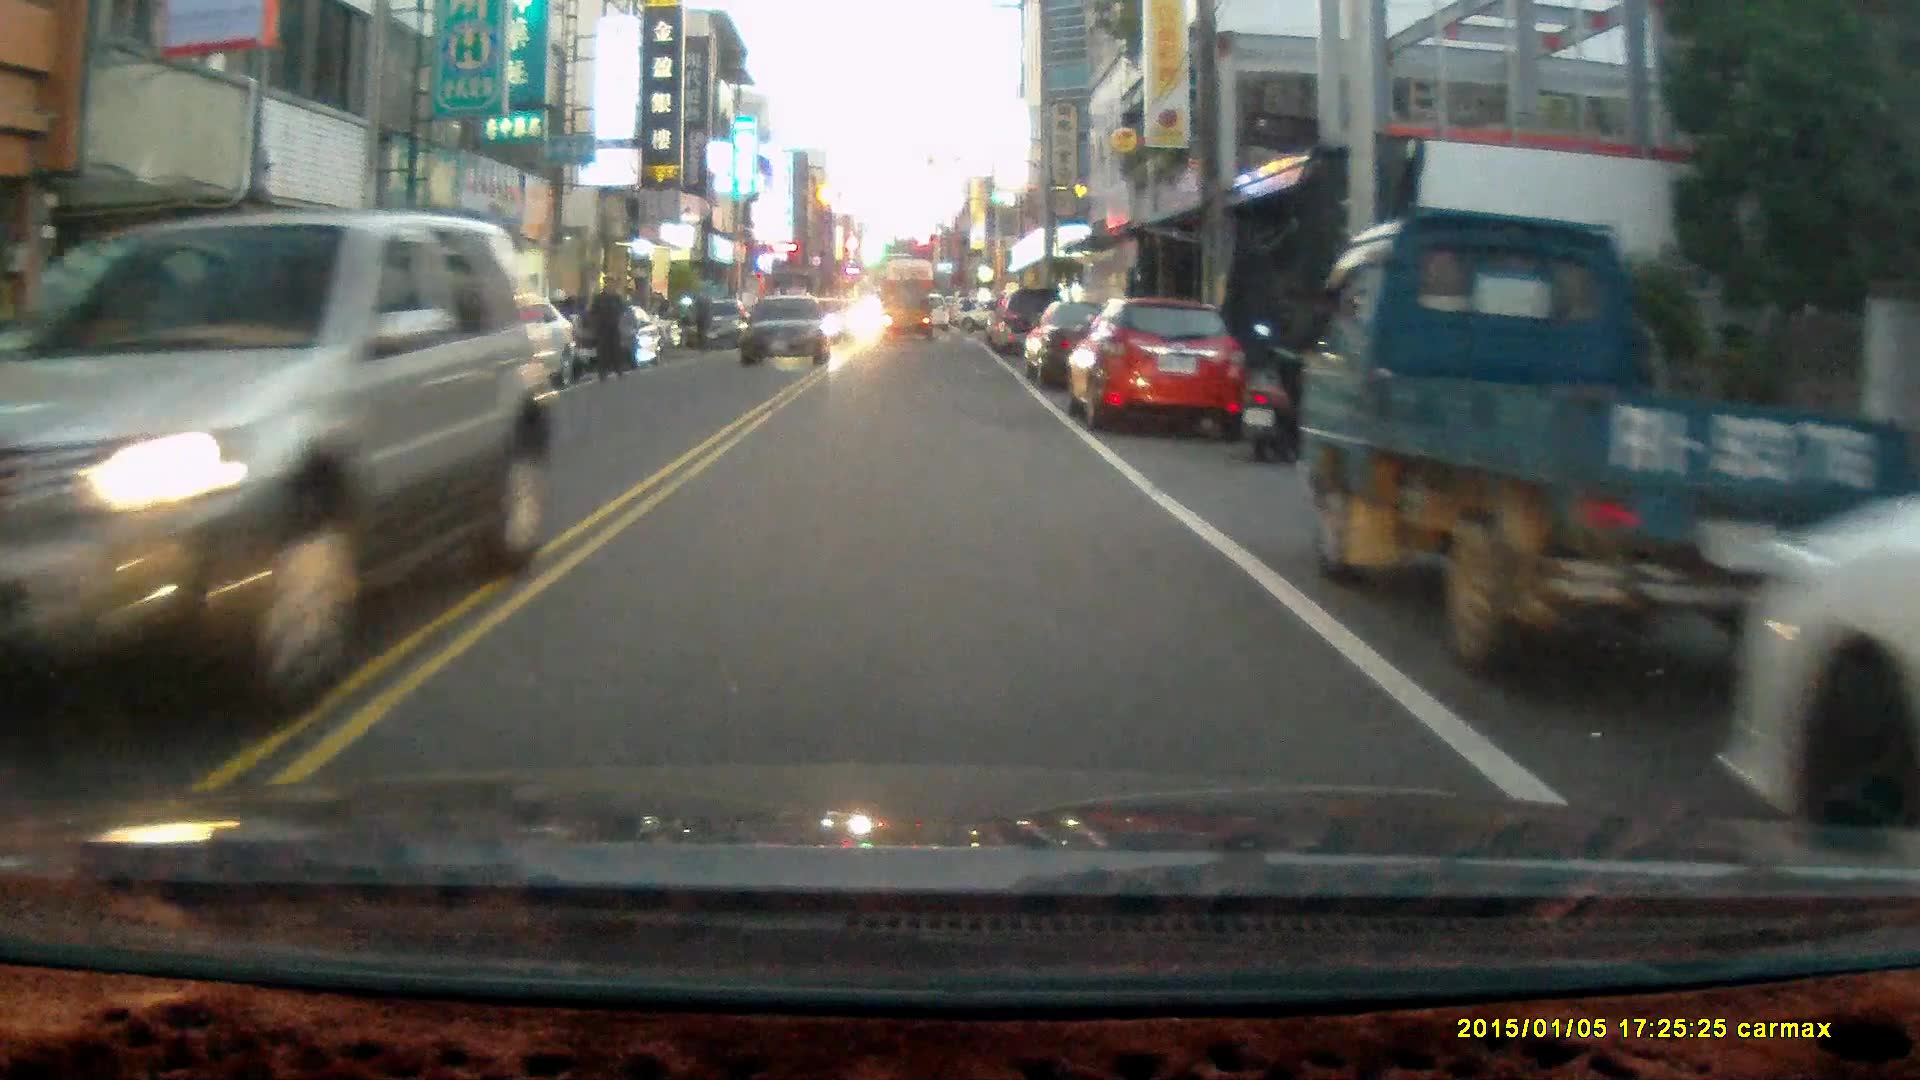pedestrian: (585, 272, 623, 385), (689, 286, 713, 352)
vehicle: (1, 212, 554, 743), (1291, 208, 1898, 672), (1716, 471, 1920, 884), (1068, 298, 1245, 437), (1021, 290, 1169, 397), (742, 291, 830, 368), (877, 282, 935, 344)
